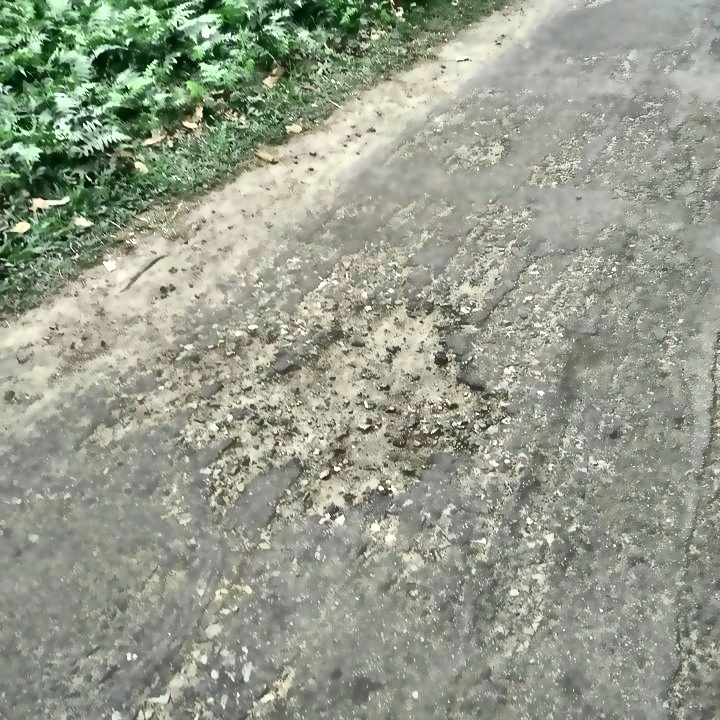pothole: (244, 295, 497, 505)
